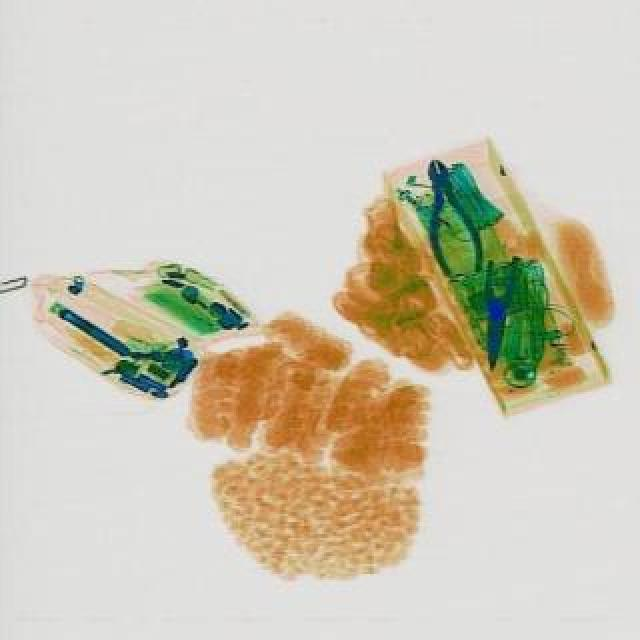wrench: (410, 154, 488, 280), (472, 252, 518, 370)
